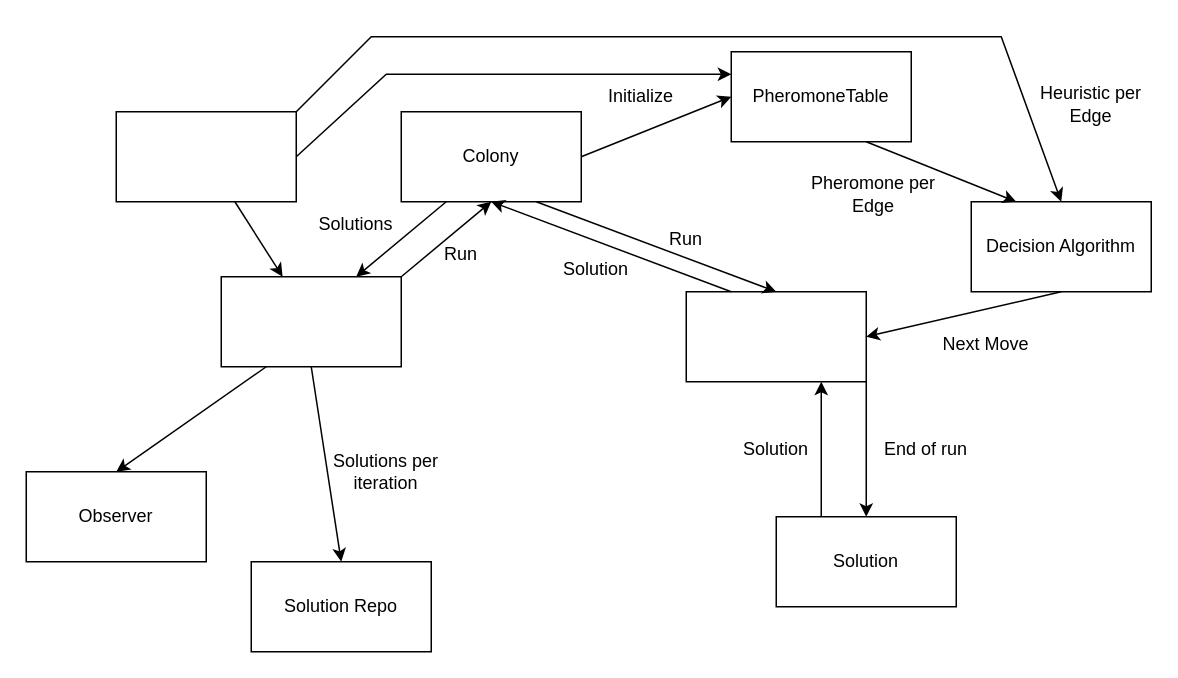
The diagram is 1178 pixels wide and 678 high, and some of its shapes have lost their labels. Here are the shapes that lost their labels. From the top down, the centre of each, then its label:
the point at 205,156: Problem
the point at 310,321: Algorithm
the point at 775,336: Ant
